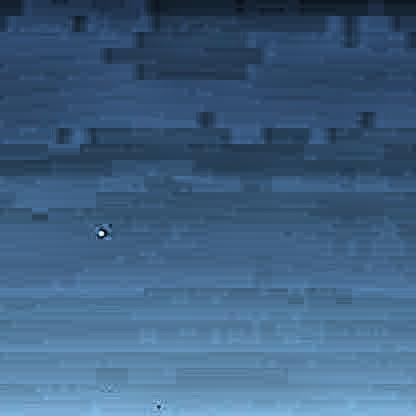golfball: (94, 225, 104, 235)
